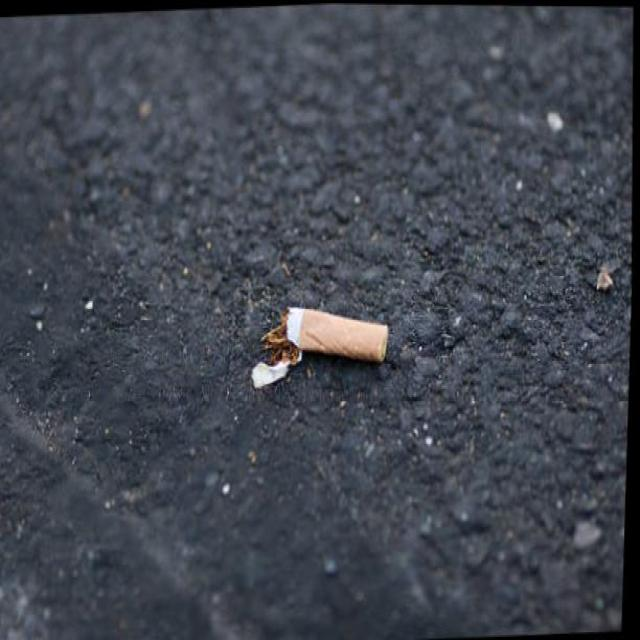cigarette: (271, 293, 393, 372)
